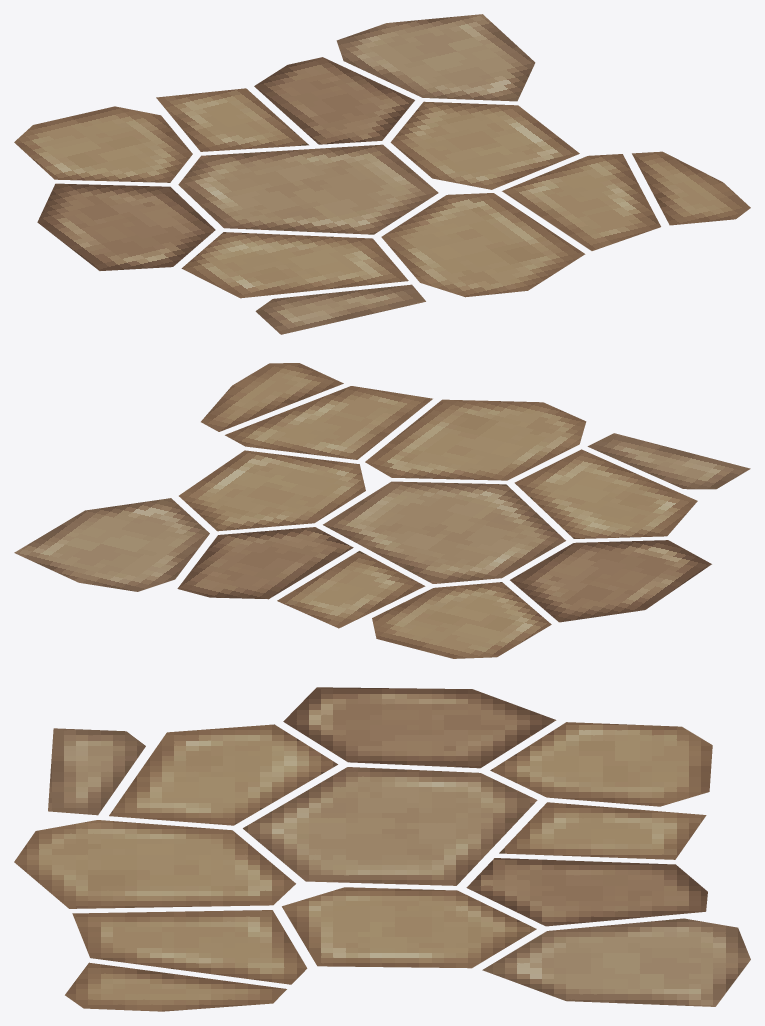
Rendered from Stone Pavement.fbx.
The picture shows the model from 3 angles, top to bottom: view 1: azimuth 30°, elevation 25°; view 2: azimuth 150°, elevation 25°; view 3: azimuth 270°, elevation 25°; orthographic projection. The views are drawn at different scales.
Parts seen in each view (by area): view 1: It_101_StonePavement; view 2: It_101_StonePavement; view 3: It_101_StonePavement.
Part boxes in pixels (x1,y1,x2,y2): It_101_StonePavement: [14, 14, 750, 334]; It_101_StonePavement: [14, 363, 750, 658]; It_101_StonePavement: [14, 687, 750, 1011].
Bounding box in the file's own units: 1.14 × 0 × 1.1.
